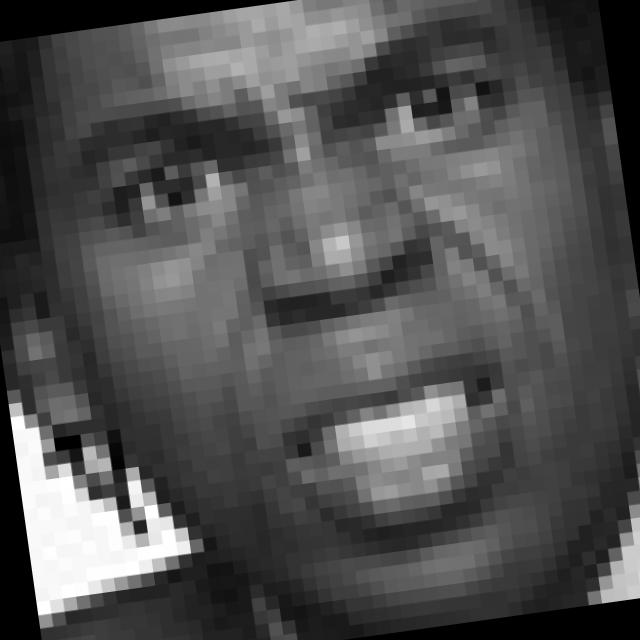angry: (65, 12, 574, 579)
